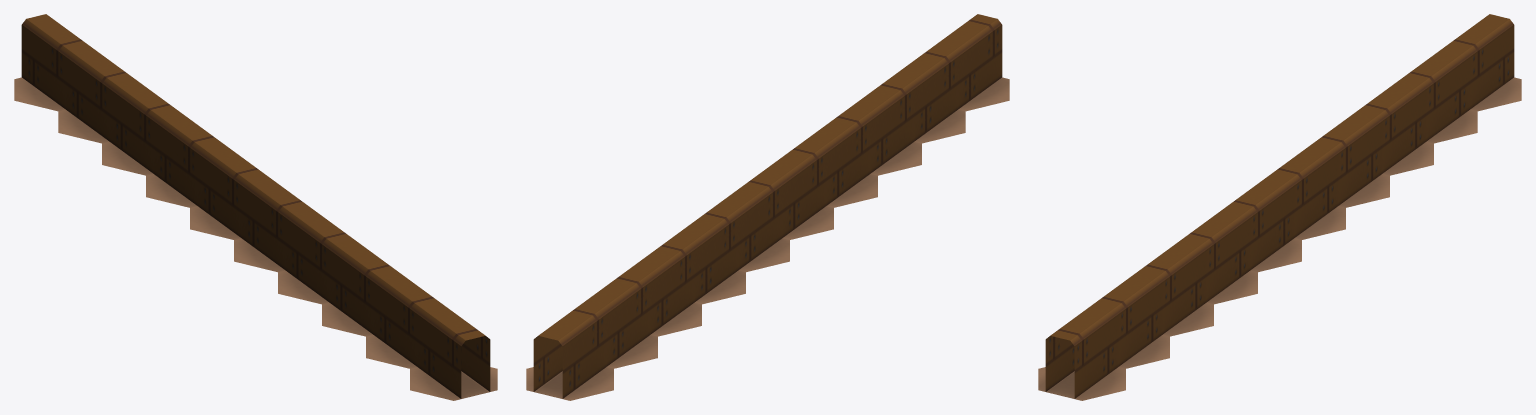
Rendered from Barriere10_Centre.FBX.
3 views of the same model, side by side, from view 1: azimuth 30°, elevation 25°; view 2: azimuth 150°, elevation 25°; view 3: azimuth 330°, elevation 25° (orthographic).
Parts seen in each view (by area): view 1: Barriere10_Centre; view 2: Barriere10_Centre; view 3: Barriere10_Centre.
Part boxes in pixels (bbox=[...]): Barriere10_Centre: bbox=[14, 14, 497, 400]; Barriere10_Centre: bbox=[526, 14, 1009, 400]; Barriere10_Centre: bbox=[1038, 14, 1521, 400].
Size of the model in its own units: 1 by 0.6247 by 8.66.
